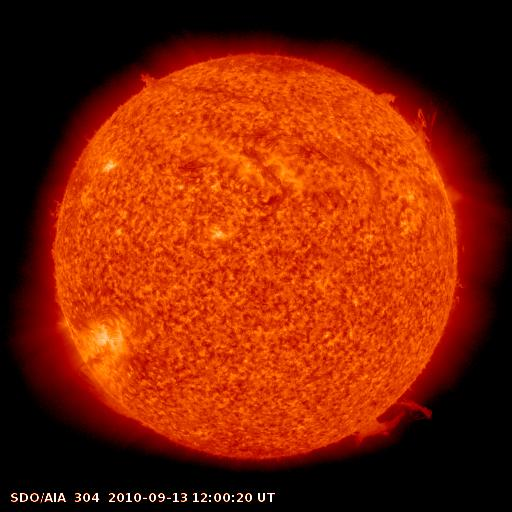prominence: (337, 385, 444, 453), (371, 78, 444, 154), (85, 382, 159, 435), (123, 58, 170, 92)
